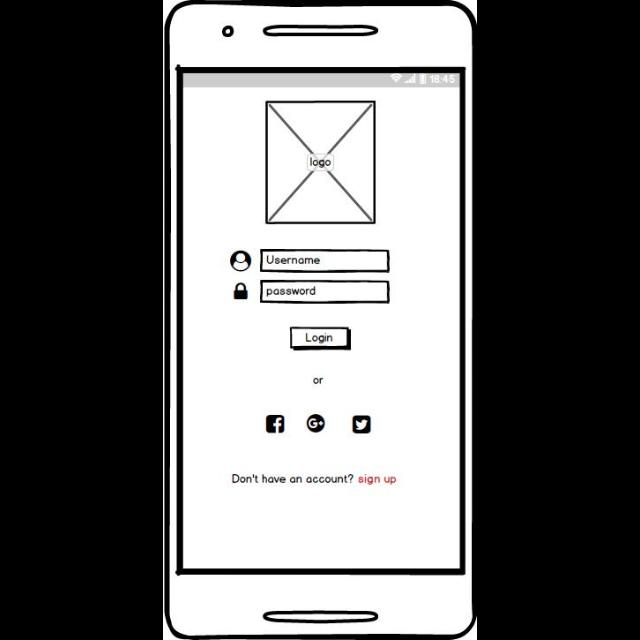icon: (232, 251, 252, 273), (266, 415, 286, 433), (307, 414, 325, 432), (353, 415, 371, 433), (234, 282, 250, 300)
image: (266, 102, 376, 224)
input: (260, 249, 390, 273), (260, 280, 390, 304)
text: (233, 473, 397, 485), (314, 378, 324, 384)
textbutton: (290, 328, 352, 350)
